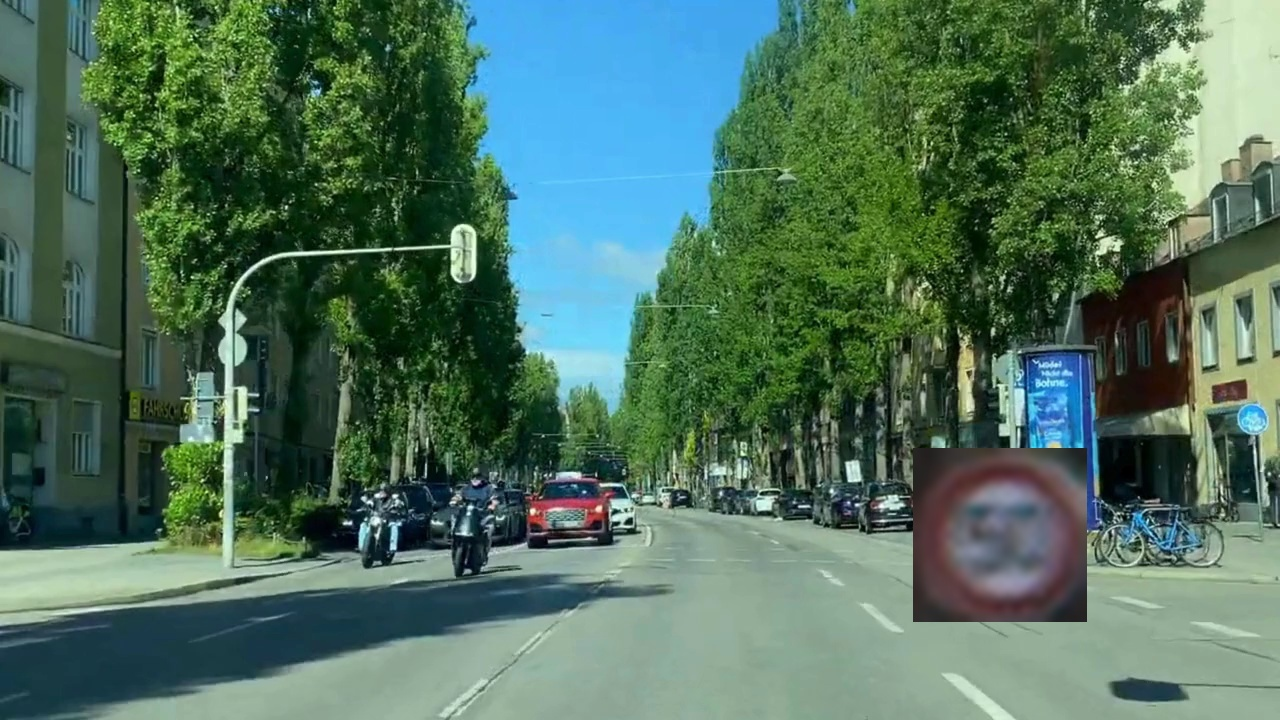Speed 50: (913, 448, 1087, 622)
